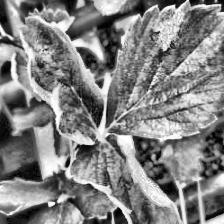Powdery Mildew Leaf: (103, 0, 223, 140), (18, 14, 105, 146), (68, 133, 187, 224), (10, 50, 42, 102), (87, 0, 160, 17), (0, 35, 25, 61)
